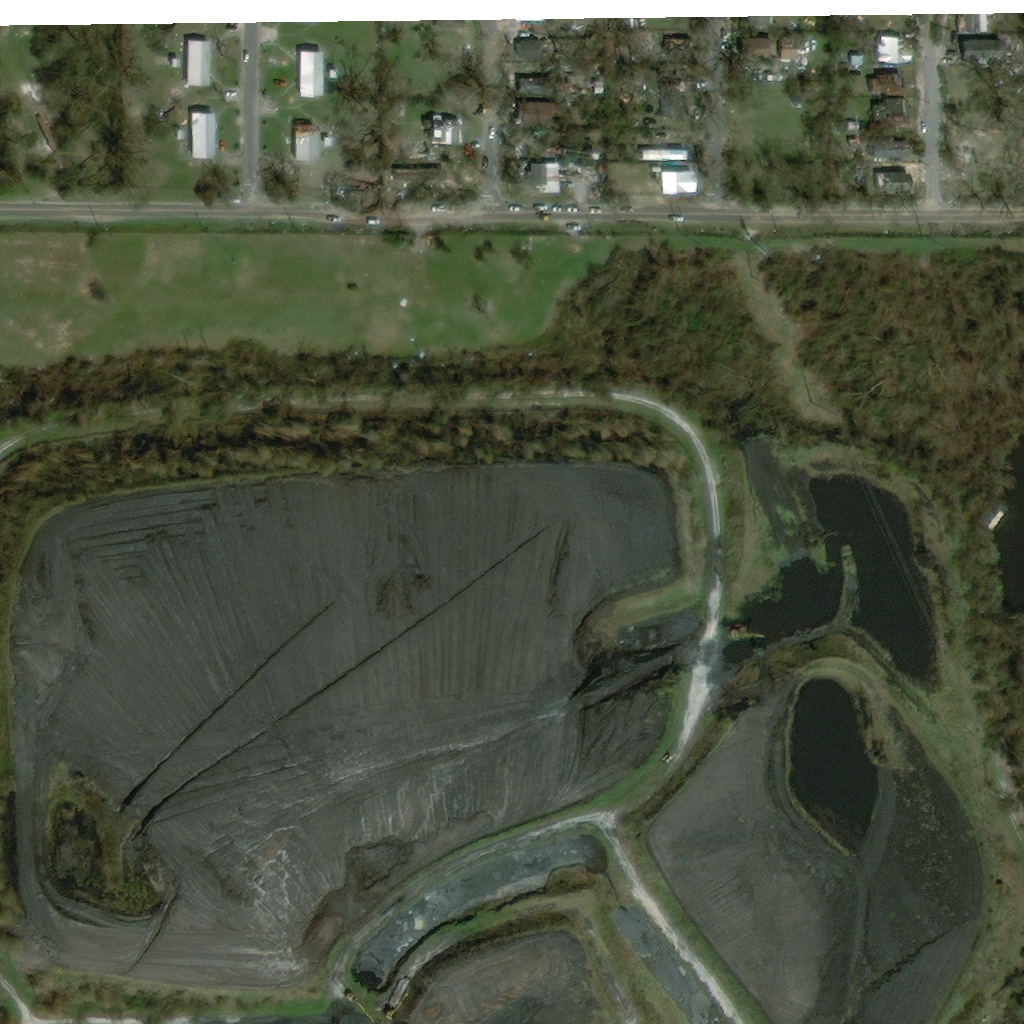destroyed: (750, 67, 780, 85), (644, 111, 669, 127), (653, 130, 680, 144), (411, 147, 436, 159), (992, 13, 1004, 24)
major_damage: (425, 118, 462, 146), (293, 125, 317, 162), (869, 75, 908, 97)
minor_damage: (526, 163, 557, 193), (958, 9, 988, 35), (865, 144, 906, 160), (883, 100, 910, 123), (742, 12, 770, 31), (521, 80, 540, 95), (780, 39, 798, 54), (513, 24, 529, 36), (324, 139, 331, 148)
no_damage: (189, 113, 213, 159), (877, 37, 911, 66), (186, 43, 203, 86), (661, 172, 694, 194), (744, 38, 775, 59), (300, 51, 322, 75), (640, 149, 678, 162), (846, 56, 866, 69), (174, 132, 184, 141), (171, 60, 179, 70), (231, 98, 241, 106)
unclassified: (433, 16, 465, 30), (294, 18, 317, 22)
